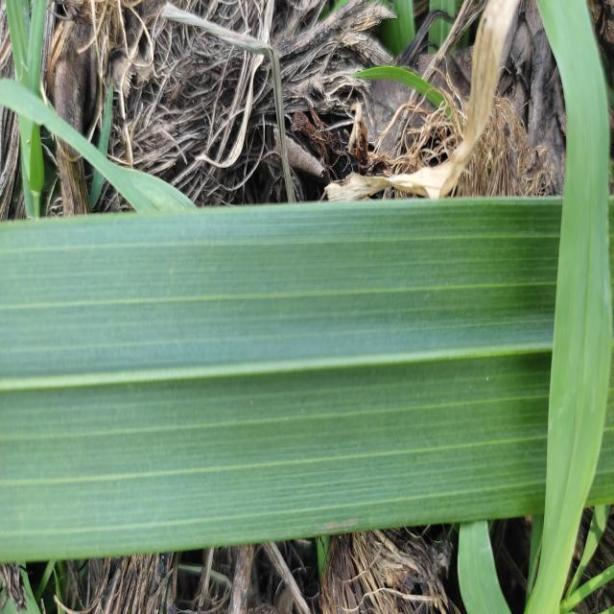Healthy: (6, 197, 614, 564)
